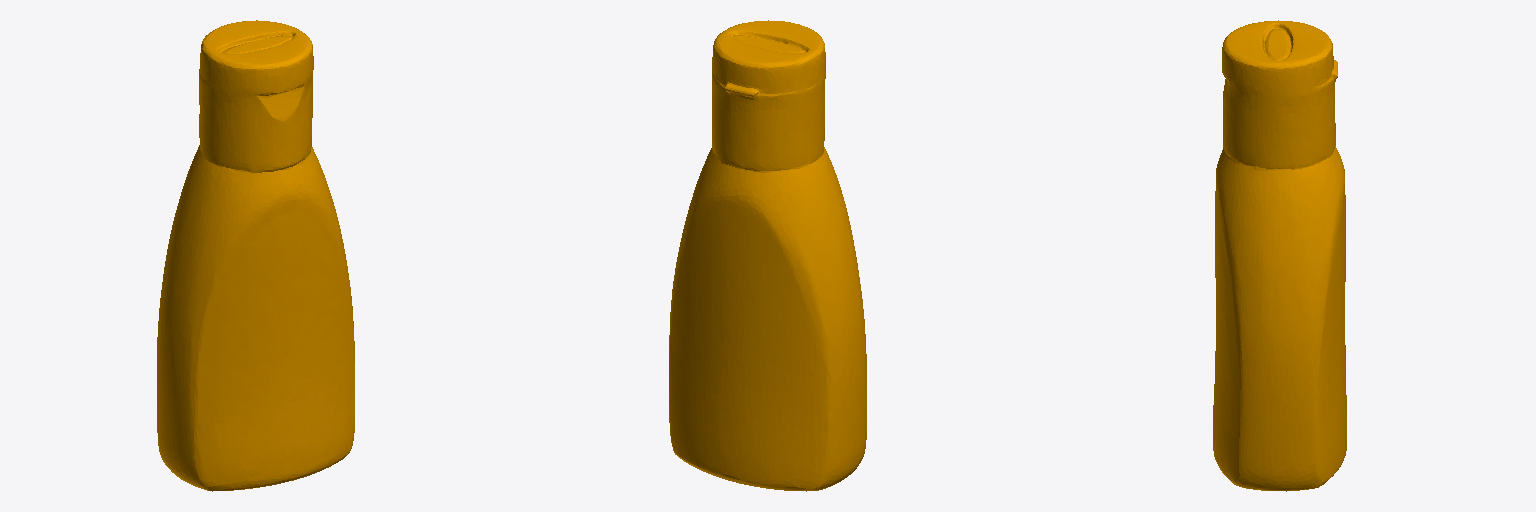
robot.urdf — bbq_sauce:
<?xml version="1.0"?>
<!-- GENERATED by tasks/libero/build_env/build_object_urdf.py. Do not hand edit.

     LIBERO object `bbq_sauce`, spawnable by the TRO-MP env.
     Role: graspable target object (envs/), one of the 22 LIBERO target assets.

     WHY a URDF when envs/bbq_sauce/ may also hold a USD: this env spawns objects
     only through `assets.object_urdf` (scene_utils.py:1929, which calls
     _convert_urdf_to_usd at :1964). The assets dataclass declares no USD field,
     so a ready-made USD cannot be handed to this code path.

     Mesh coordinates are PRESERVED, not re-centred: 11 of 22 LIBERO envs have
     their mesh origin at the object's base, and `goal_traj` tracks that origin.
     Re-centring would offset the object from its own trajectory every frame.

     Mass: density 800.0 kg/m^3 x mesh volume 1.094338e-04 m^3
     Inertia: solid-box approximation about the COM at that mass, NOT the true
     mesh inertia tensor. Adequate for a graspable tabletop object; revisit if
     spin dynamics matter.

     Collision: the full mesh, decomposed by Isaac's URDF importer. The convex
     decomposition authored in the DexVerse USD is NOT reproduced here.
-->
<robot name="bbq_sauce">
  <link name="bbq_sauce">
    <inertial>
      <origin xyz="0.000041 0.000004 -0.008441" rpy="0 0 0"/>
      <mass value="0.087547"/>
      <inertia ixx="9.804687e-05" ixy="0" ixz="0" iyy="1.074316e-04" iyz="0" izz="2.490066e-05"/>
    </inertial>
    <visual>
      <origin xyz="0 0 0" rpy="0 0 0"/>
      <geometry><mesh filename="bbq_sauce.obj" scale="1 1 1"/></geometry>
    </visual>
    <collision>
      <origin xyz="0 0 0" rpy="0 0 0"/>
      <geometry><mesh filename="bbq_sauce.obj" scale="1 1 1"/></geometry>
    </collision>
  </link>
</robot>

--- What the picture shows (computed from the rendered views, not written in the file) ---
The picture shows the robot from 3 angles, left to right: view 1: azimuth 30°, elevation 25°; view 2: azimuth 150°, elevation 25°; view 3: azimuth 270°, elevation 25°; orthographic projection.
Robot: bbq_sauce — 1 links, 0 joints (none); root link bbq_sauce; default pose: every joint at zero.
Visible links, largest first — view 1: bbq_sauce; view 2: bbq_sauce; view 3: bbq_sauce.
Link boxes in pixels (x1,y1,x2,y2): bbq_sauce: [157, 20, 354, 491]; bbq_sauce: [669, 20, 866, 491]; bbq_sauce: [1213, 20, 1346, 491].
Size in the robot's own frame: 0.0485 by 0.0326 by 0.1112 metres.
1 mesh visuals loaded from 1 distinct referenced files (1 OBJ).
